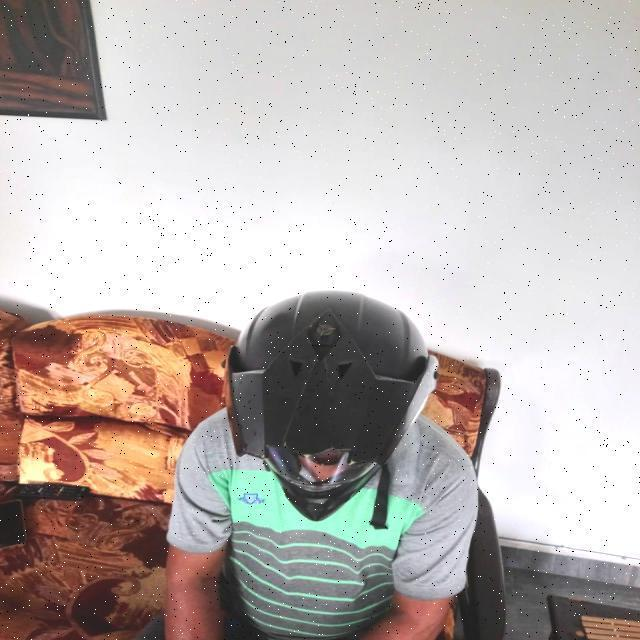helmet: (224, 292, 439, 531)
